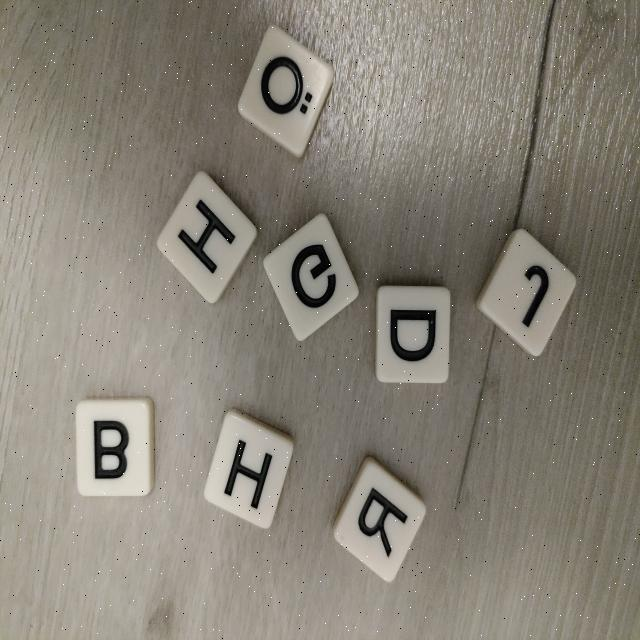b: (75, 398, 155, 498)
d: (374, 286, 450, 383)
g: (260, 210, 361, 344)
h: (152, 167, 261, 306), (200, 407, 296, 533)
j: (474, 223, 579, 362)
o_dot: (234, 24, 336, 159)
r: (330, 454, 431, 587)
